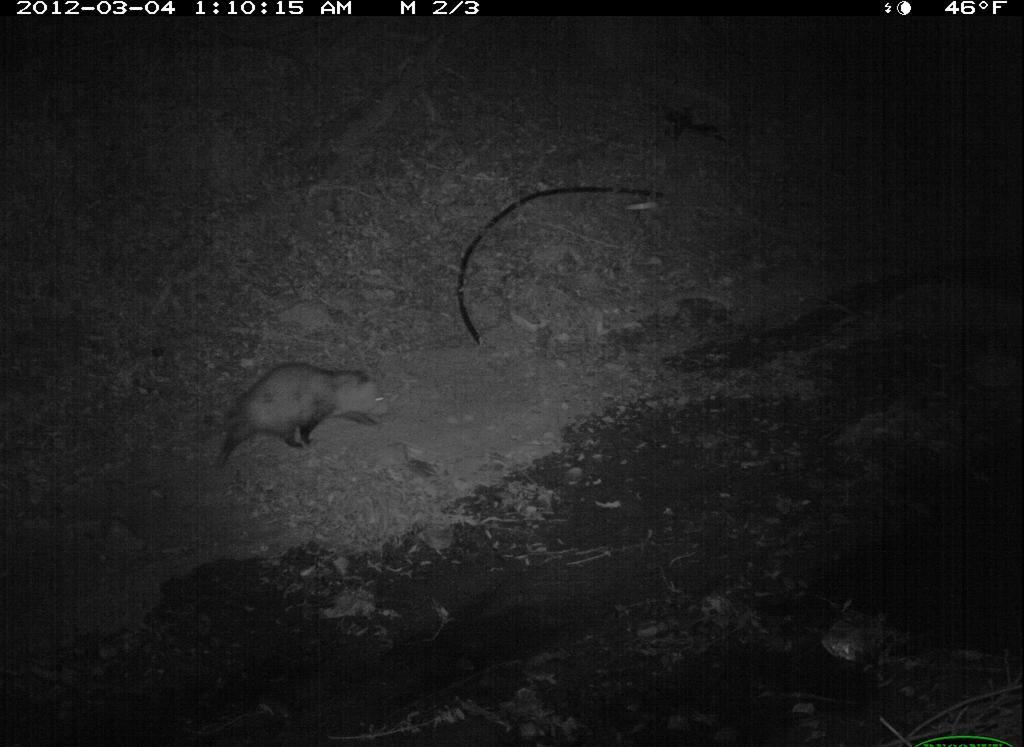opossum: (198, 342, 404, 474)
